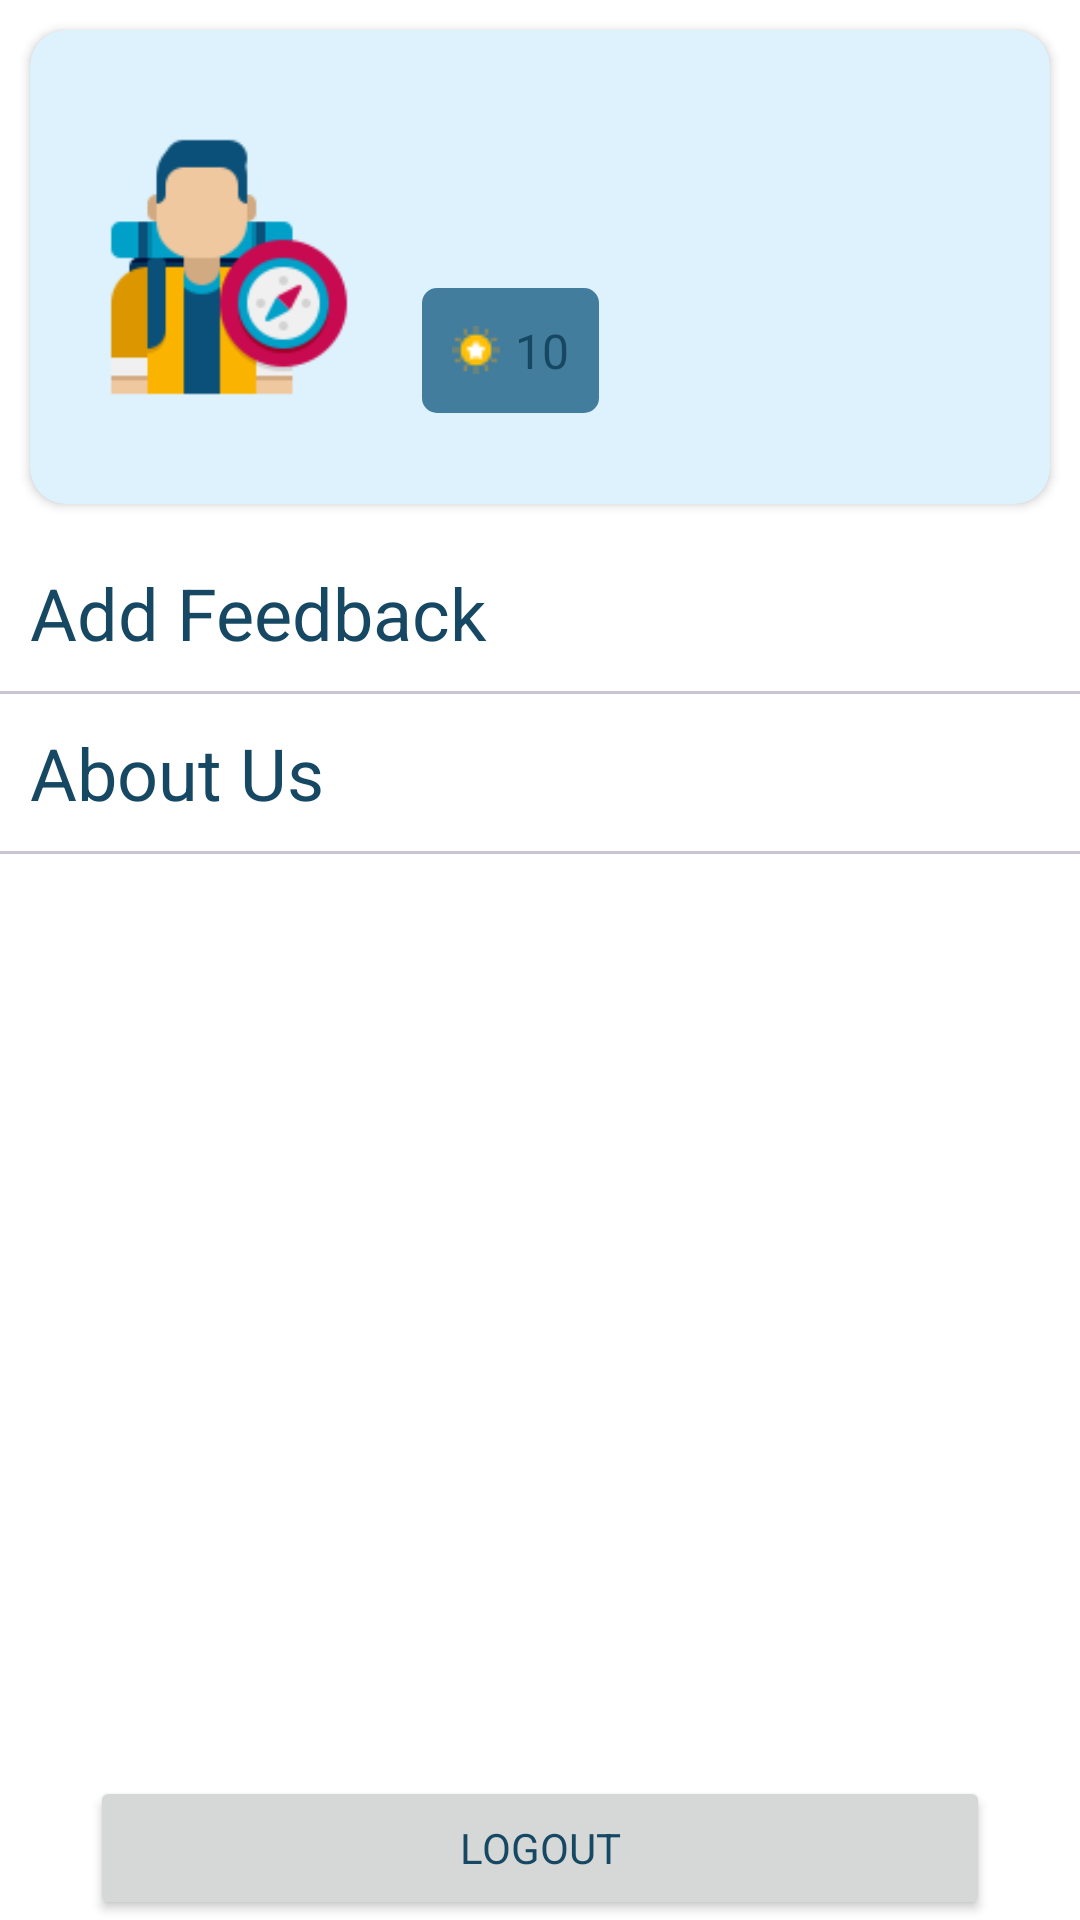

Icon click points for this 1080x1920 phone screenshot, format (x=x, y=y):
profile: (x=229, y=267)
